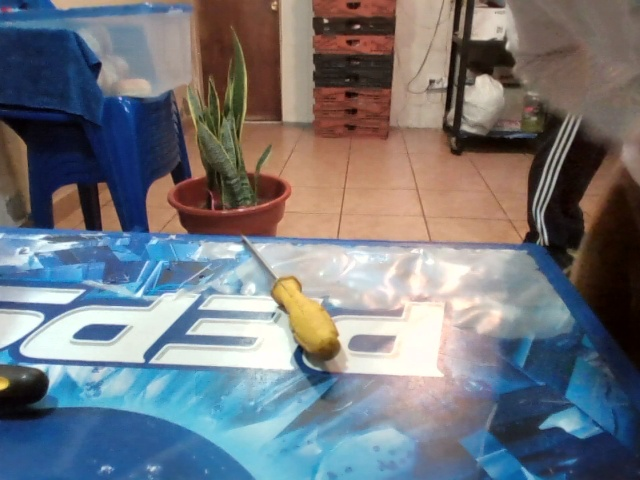destornillador: (239, 232, 344, 362)
